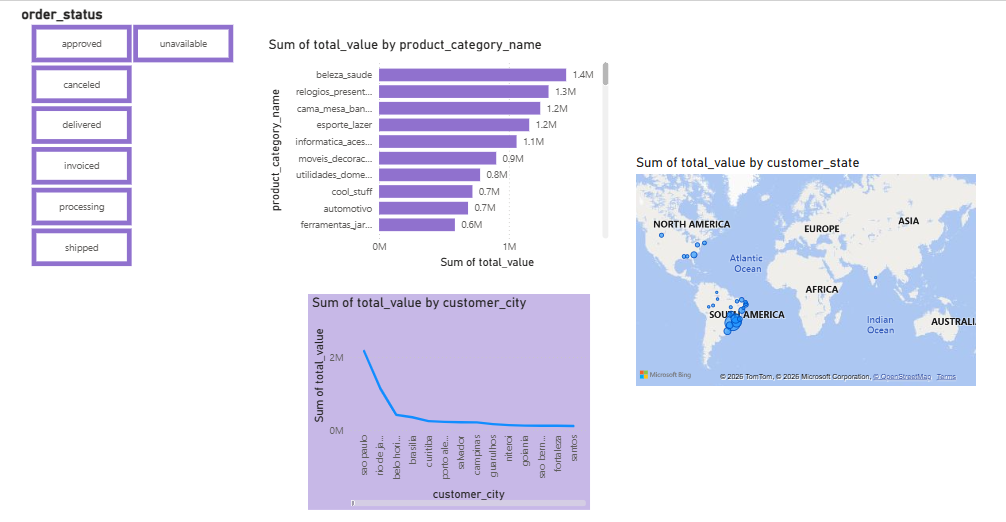

Layout of this report page (visuals, bound fields, positions):
{"tool":"powerbi","page":{"name":"Page 1","canvas":[1280,720],"ordinal":0},"visuals":[{"type":"lineChart","fields":{"Category":["ecommerce_project v_master_sales.customer_city"],"Y":["Sum(ecommerce_project v_master_sales.total_value)"]},"box":[393.1,430.9,355.3,272.1],"z":0},{"type":"map","fields":{"Category":["ecommerce_project v_master_sales.customer_state"],"Size":["Sum(ecommerce_project v_master_sales.total_value)"]},"box":[801.3,255.1,438.4,296.7],"z":1000},{"type":"clusteredBarChart","fields":{"Category":["ecommerce_project v_master_sales.product_category_name"],"Y":["Sum(ecommerce_project v_master_sales.total_value)"]},"box":[338.3,105.8,438.4,296.7],"z":2000},{"type":"slicer","fields":{"Values":["ecommerce_project v_master_sales.order_status"]},"box":[18.9,62.4,304.3,340.2],"z":3000}]}

Visuals, with their boxes on the page's 1280x720 design canvas (x1, y1, x2, y2). These are canvas units, not pixel positions in the 1006x522 screenshot, which may show the page scaled, cropped or inside an application window:
lineChart - ecommerce_project v_master_sales.customer_city x Sum(ecommerce_project v_master_sales.total_value): (393, 431, 748, 703)
map - ecommerce_project v_master_sales.customer_state x Sum(ecommerce_project v_master_sales.total_value): (801, 255, 1240, 552)
clusteredBarChart - ecommerce_project v_master_sales.product_category_name x Sum(ecommerce_project v_master_sales.total_value): (338, 106, 777, 402)
slicer - ecommerce_project v_master_sales.order_status: (19, 62, 323, 403)
